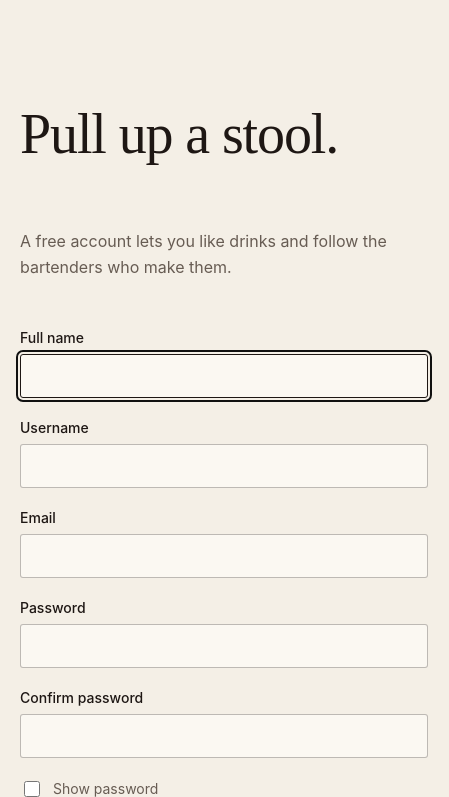
it: Signup › blocks submission and shows a message when email is missing
Type "jamie" into the field labelled "Username" at (224, 466), box 20,444 -> 428,488
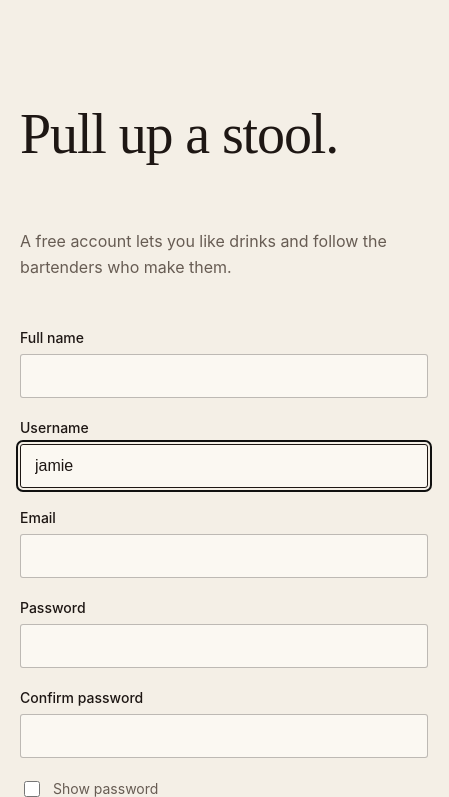
Type "password123" into the password field labelled "Password" at (224, 646), box 20,624 -> 428,668
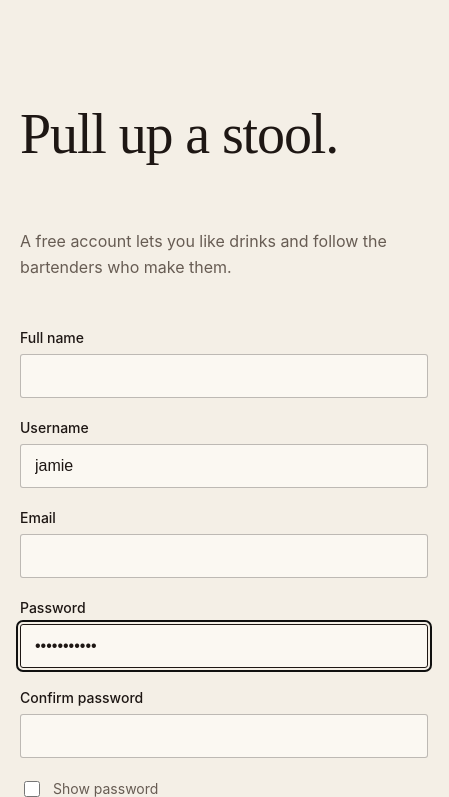
Type "password123" into the password field labelled "Confirm password" at (224, 736), box 20,714 -> 428,758
(page scrolled)
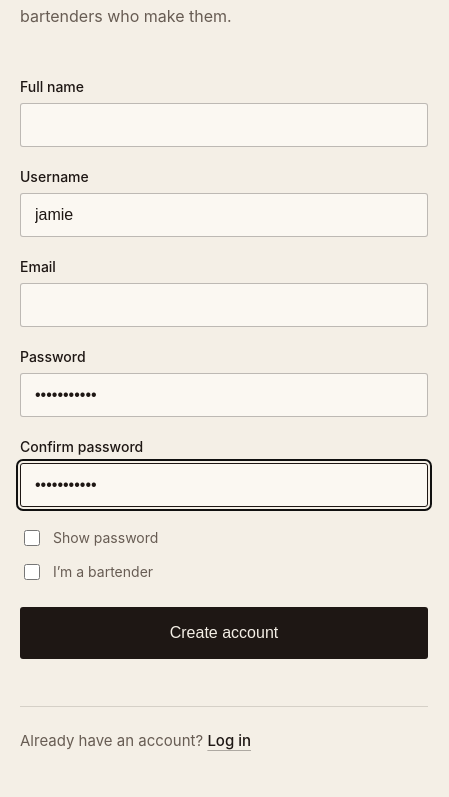
Click the button "Create account" at (224, 633), box 20,607 -> 428,659
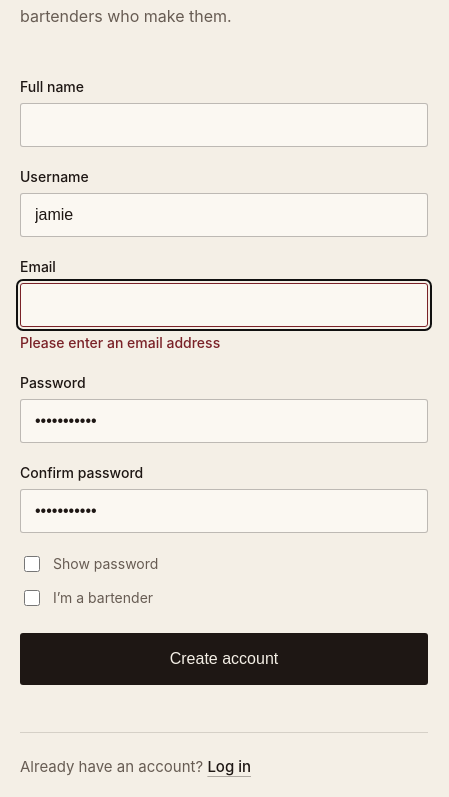
Check: the text "Please enter an email address" is shown, box 20,334 -> 220,351
